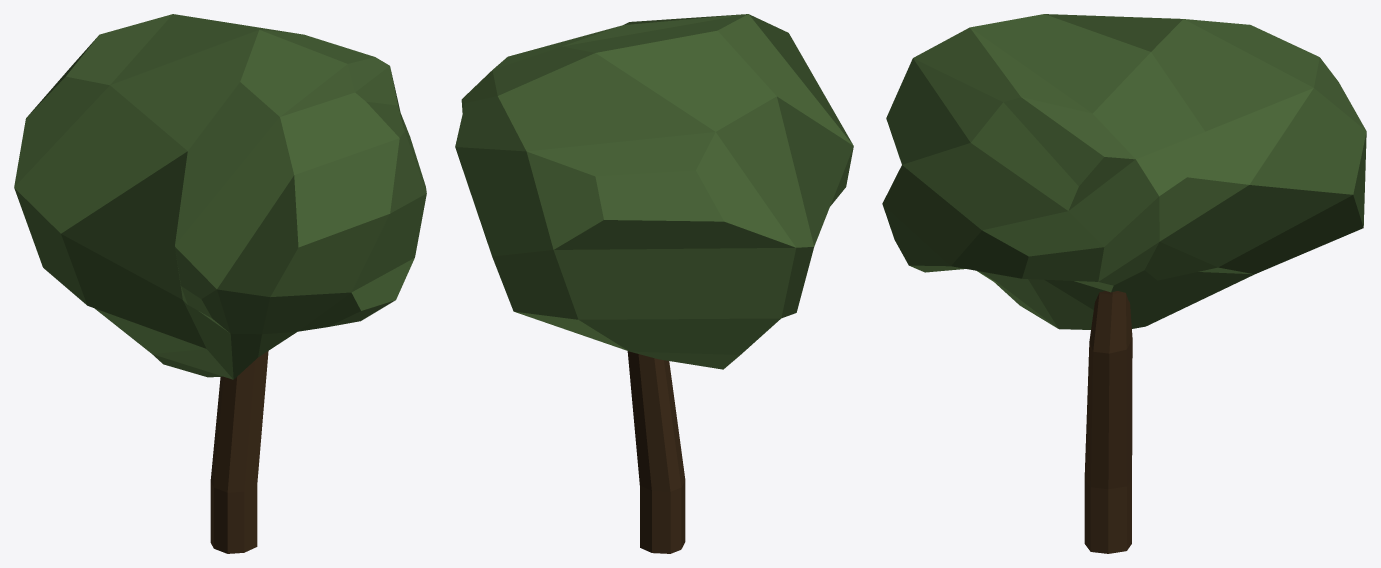
The model's file is Apple_Tree_1C.fbx.
3 views of the same model, side by side, from view 1: azimuth 30°, elevation 25°; view 2: azimuth 150°, elevation 25°; view 3: azimuth 270°, elevation 25° (orthographic). The views are drawn at different scales.
Visible parts, largest first — view 1: Apple_Tree_1C; view 2: Apple_Tree_1C; view 3: Apple_Tree_1C.
Boxes of the visible parts, x1=… form: Apple_Tree_1C: x1=14, y1=14, x2=426, y2=553; Apple_Tree_1C: x1=455, y1=14, x2=853, y2=553; Apple_Tree_1C: x1=882, y1=14, x2=1366, y2=553.
Bounding box in the file's own units: 1.38 × 1.83 × 1.55.
